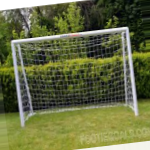goals: (10, 25, 140, 127)
